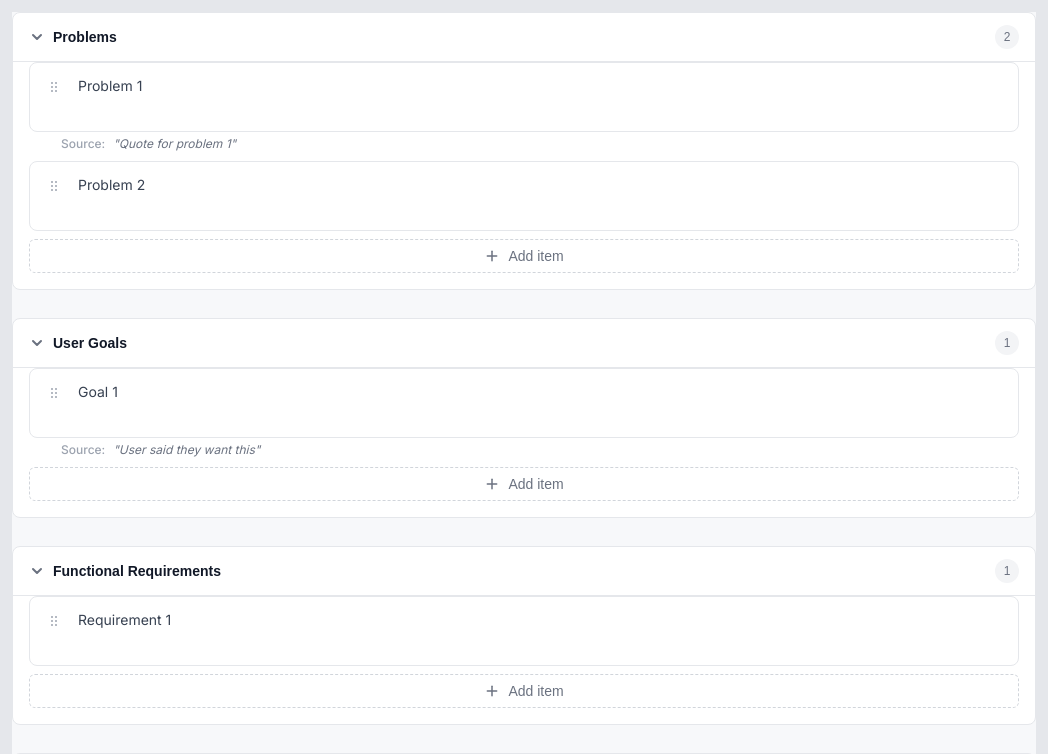
Test: RecapEditor › Add Item Functionality › opens add form when clicking add item button
This screenshot has width=1048, height=754.
Click the button "Add item" below "Problem 2" at (524,256), box 29,239 -> 1019,273
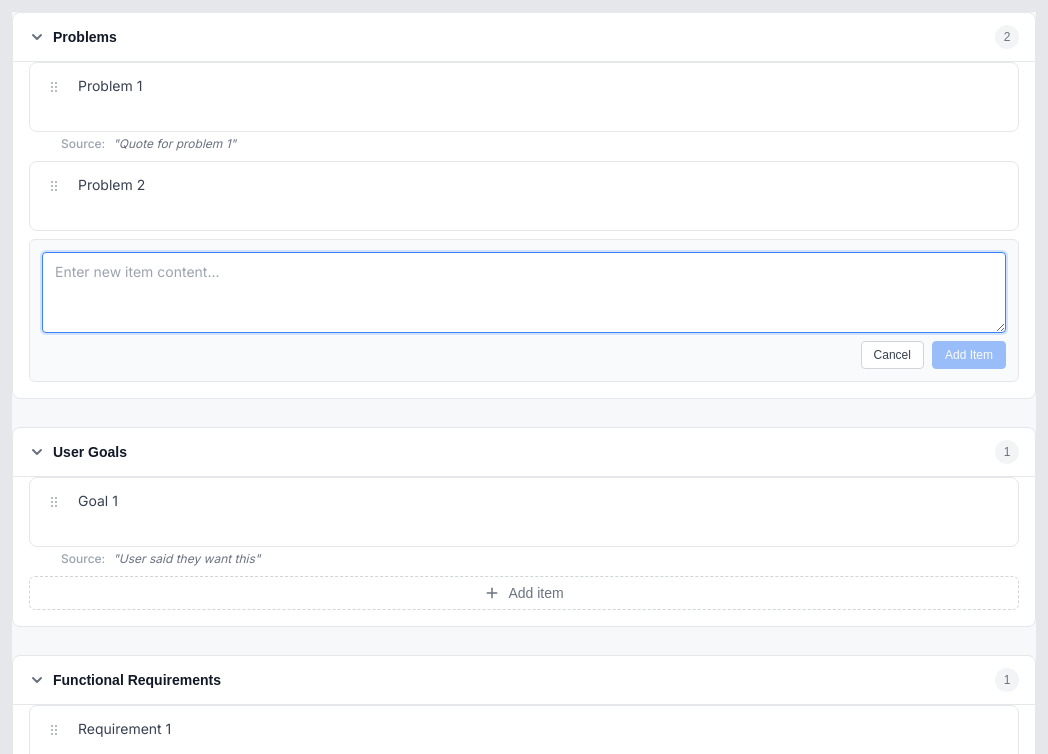
expect the button "Add Item" is shown: met, box 932,341 -> 1006,369
expect the text box with placeholder "Enter new item content..." is shown: met, box 42,252 -> 1006,333
expect the button "Cancel" is shown: met, box 861,341 -> 924,369
